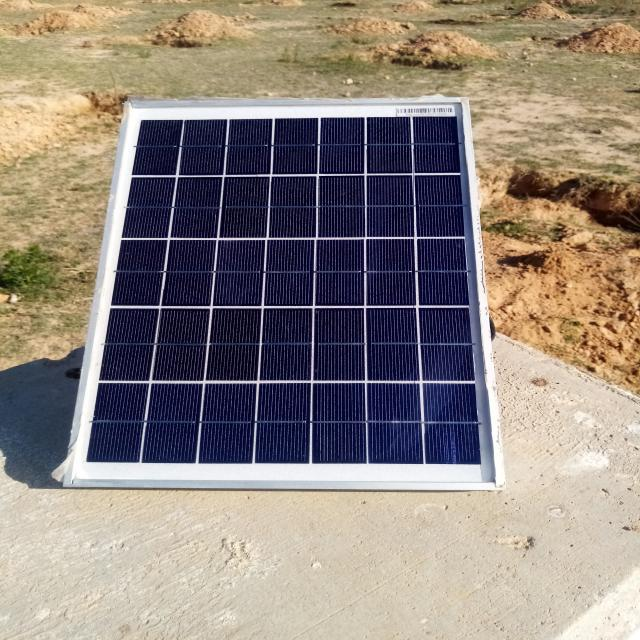no faulty: (72, 102, 496, 488)
